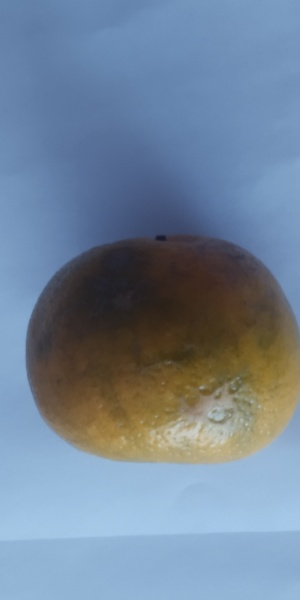BAD: (22, 232, 300, 464)
